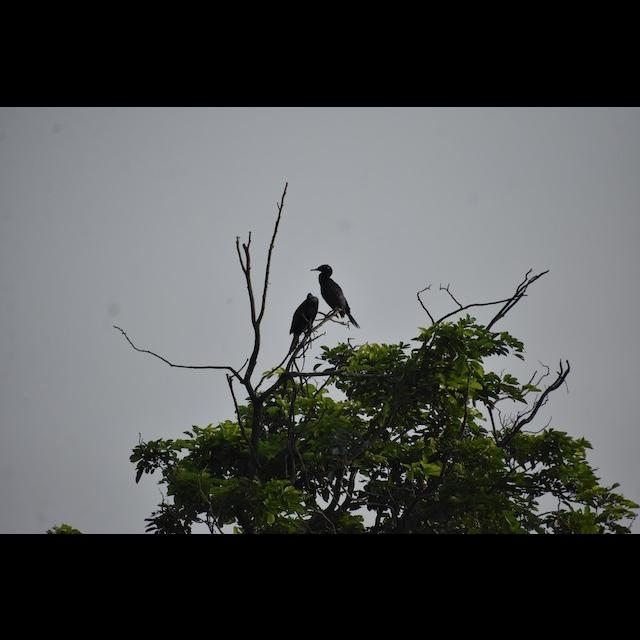cormorant: (305, 258, 371, 328)
